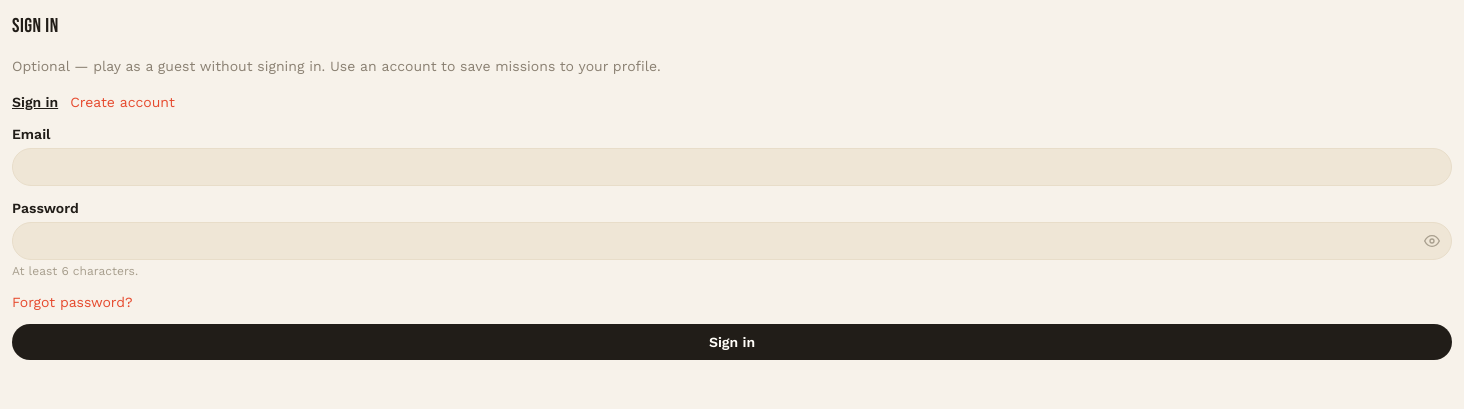
Test case: AuthForm › shows Forgot password and sends a reset when enabled
Type "athlete@example.com" into the field labelled "Email" at (732, 167), box left=12, top=148, right=1452, bottom=186
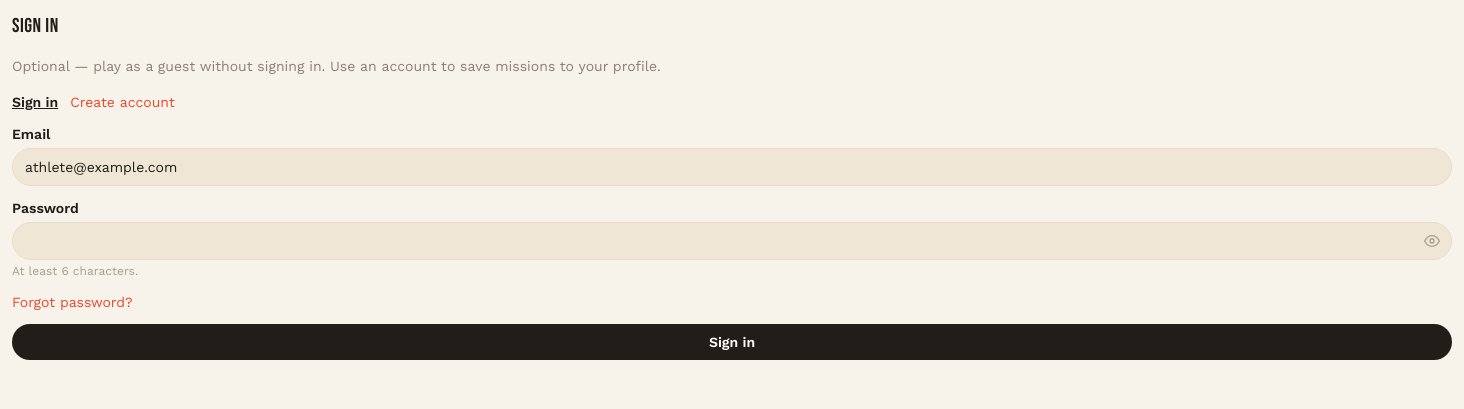
Click the button "Forgot password?" at (72, 302), box left=12, top=292, right=133, bottom=312
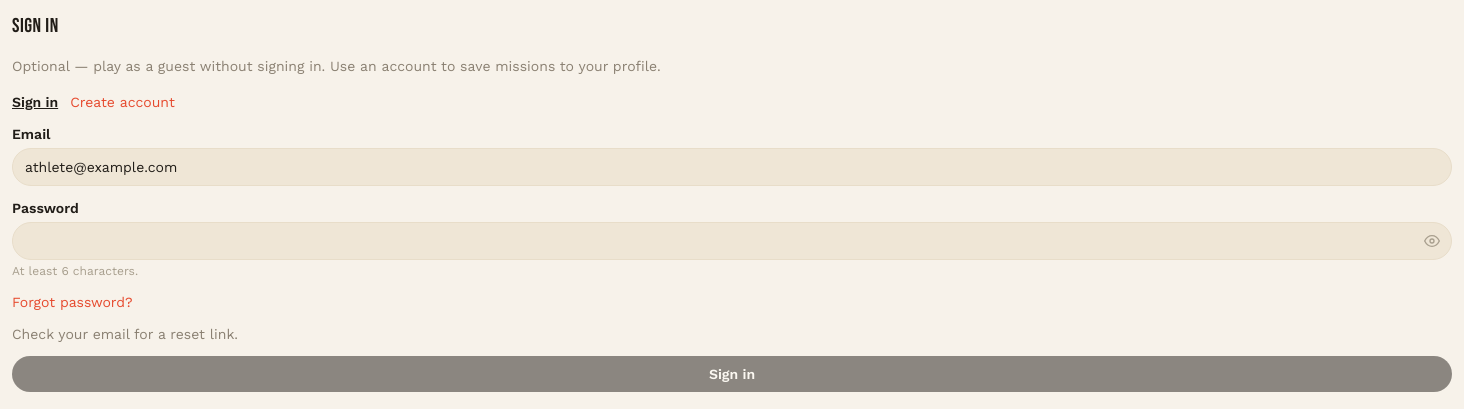
Expected: the text "Check your email for a reset link." is shown, left=12, top=326, right=238, bottom=342
